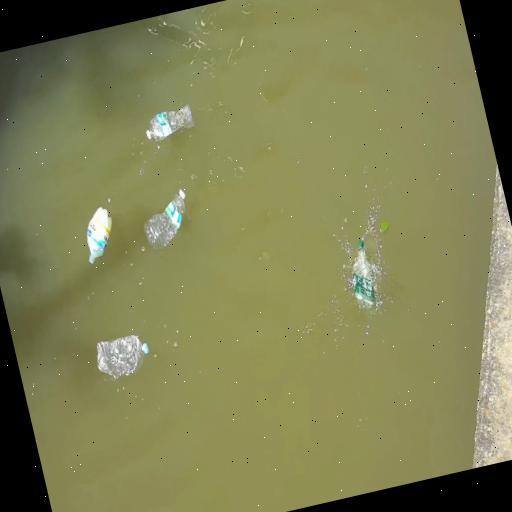plastic: (145, 189, 185, 249), (97, 335, 149, 380), (146, 105, 194, 140), (352, 241, 375, 306), (87, 207, 112, 264)
